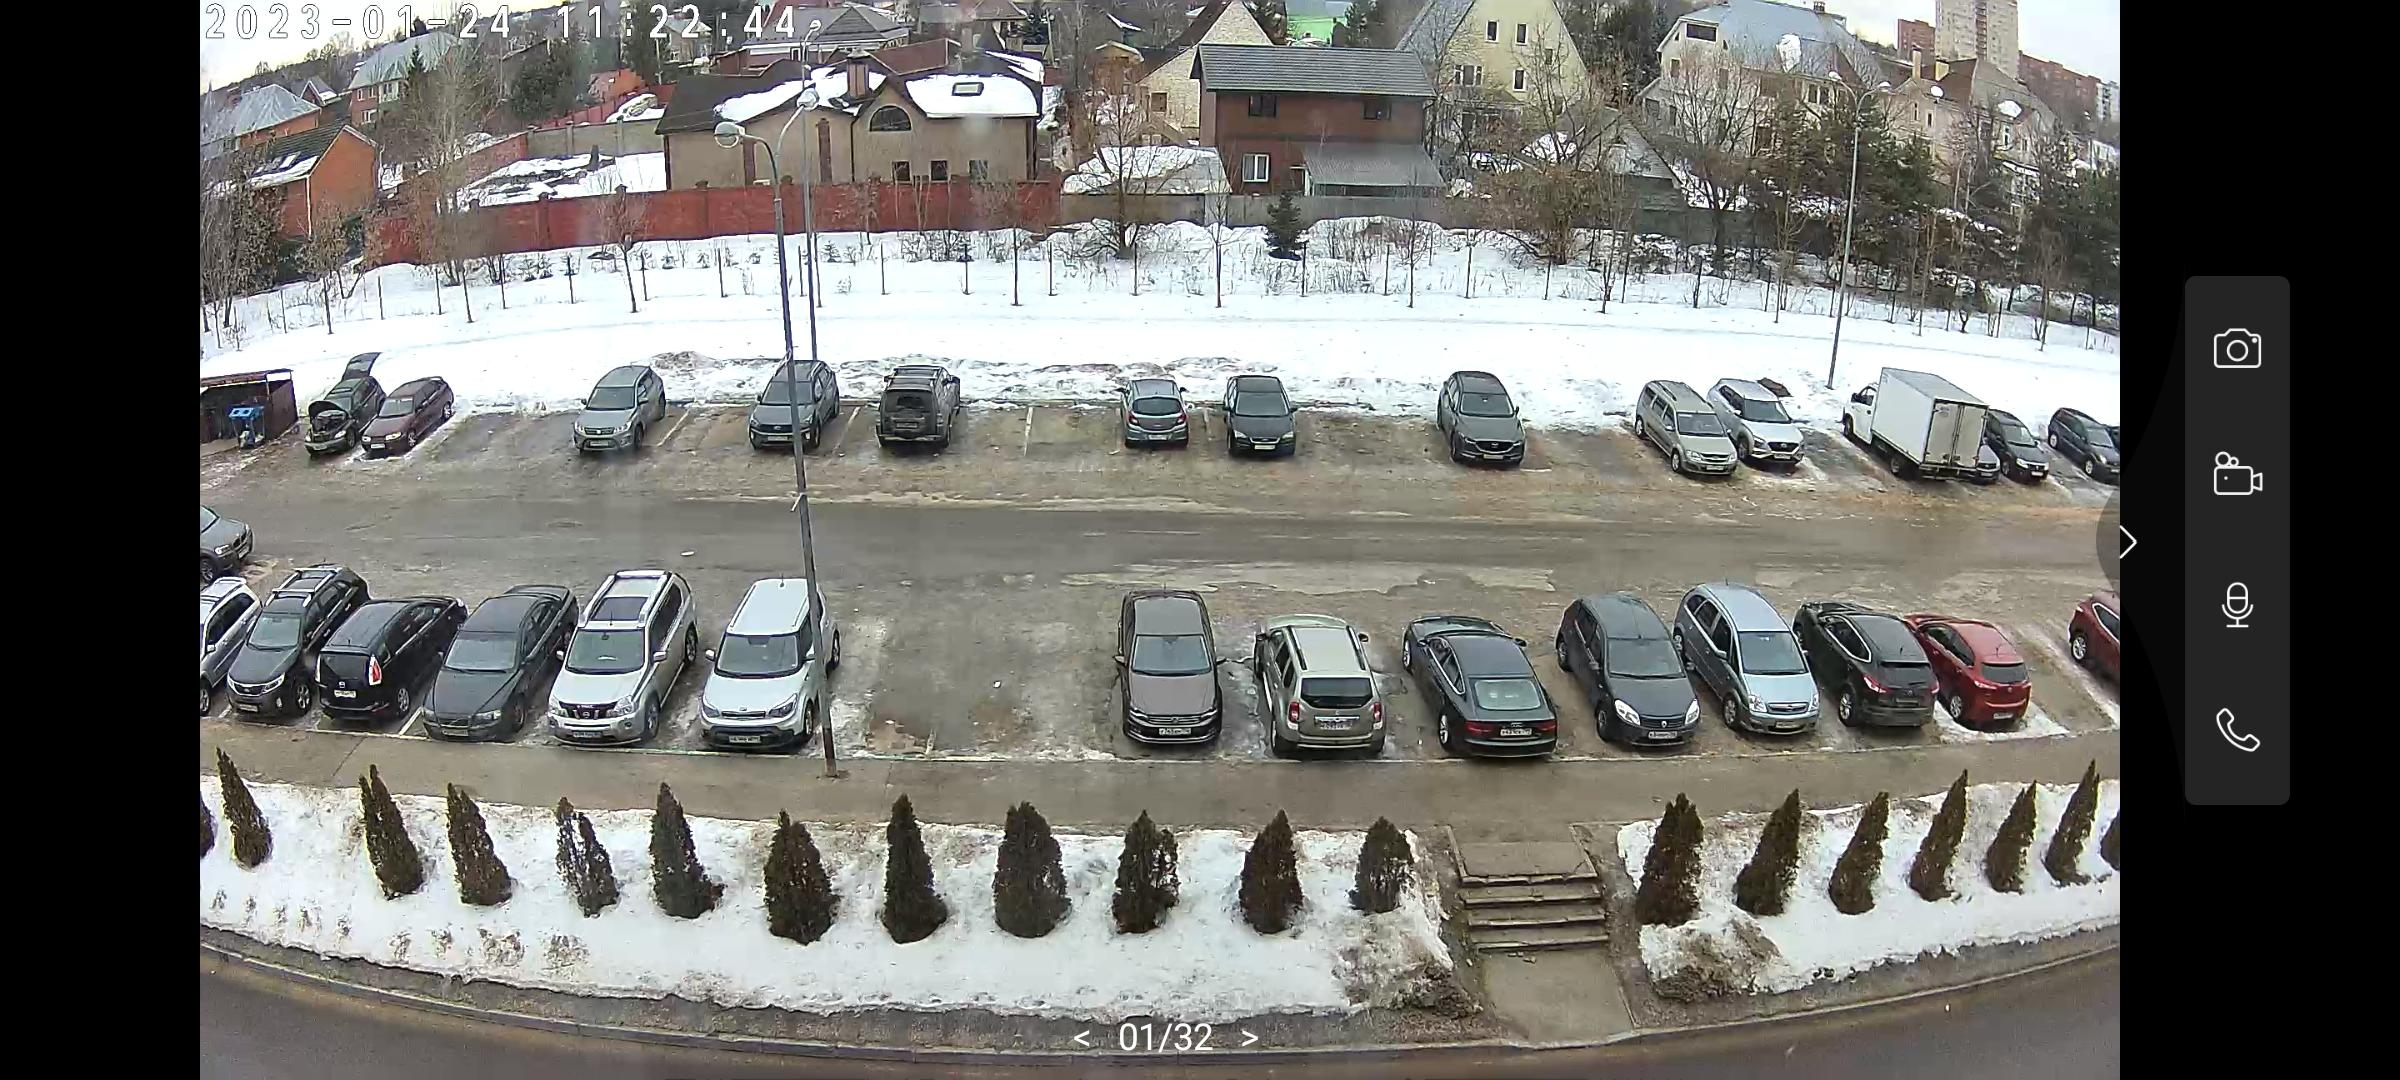empty: (680, 581, 845, 757), (1678, 578, 1846, 739), (407, 584, 568, 750), (534, 575, 683, 751), (1097, 594, 1249, 759), (1407, 621, 1578, 765), (1563, 592, 1707, 756), (1828, 364, 2016, 485), (1258, 616, 1408, 765), (295, 589, 445, 736), (1817, 603, 1961, 739), (214, 574, 326, 733), (1926, 613, 2037, 747), (1624, 376, 1760, 479), (1434, 367, 1547, 473), (566, 363, 680, 460), (2056, 594, 2129, 736), (1716, 369, 1817, 468), (866, 358, 964, 459), (735, 359, 836, 456), (2010, 404, 2108, 497), (306, 349, 380, 473), (341, 381, 453, 454), (1215, 381, 1307, 467), (1108, 378, 1197, 457)
occupied: (973, 595, 1101, 756), (849, 607, 964, 737), (2002, 610, 2114, 740), (1019, 367, 1122, 473), (1531, 402, 1648, 486), (1287, 378, 1374, 477), (1789, 395, 1877, 488), (940, 376, 1019, 473), (433, 378, 507, 479), (675, 389, 756, 468), (1379, 385, 1440, 477), (513, 398, 576, 471)
